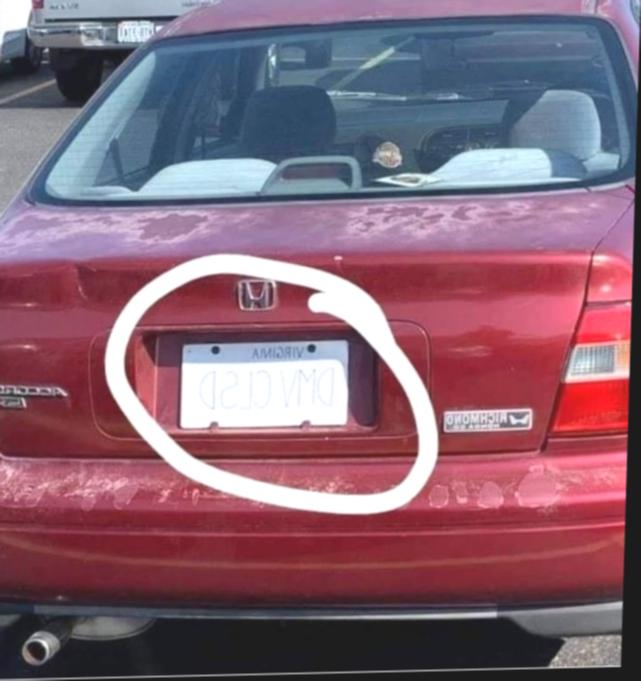License_Plate: (168, 329, 359, 435)
